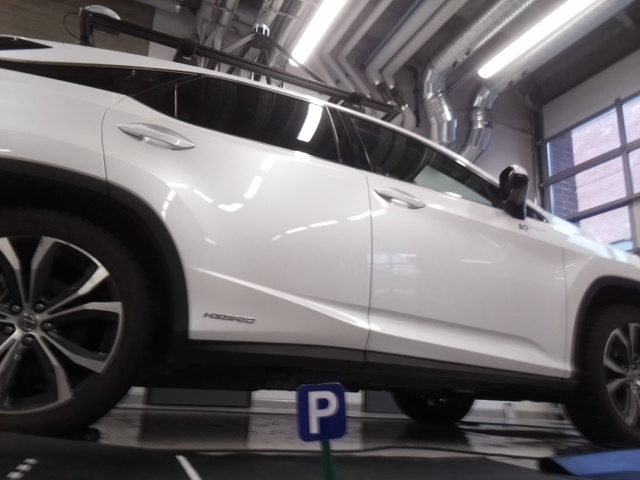Parking: (293, 382, 345, 439)
